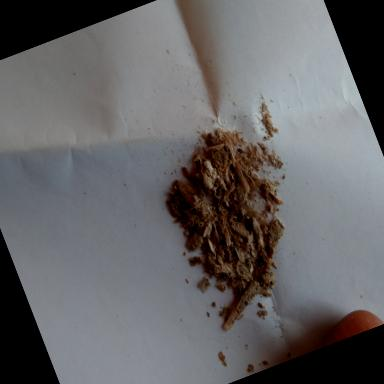pbw: (251, 172, 286, 216), (258, 215, 292, 254), (174, 174, 202, 210), (232, 156, 257, 194), (248, 216, 269, 251), (212, 204, 234, 234), (219, 218, 238, 247), (230, 216, 252, 241), (184, 228, 206, 251), (257, 270, 279, 292), (196, 276, 213, 294), (188, 252, 206, 268)
